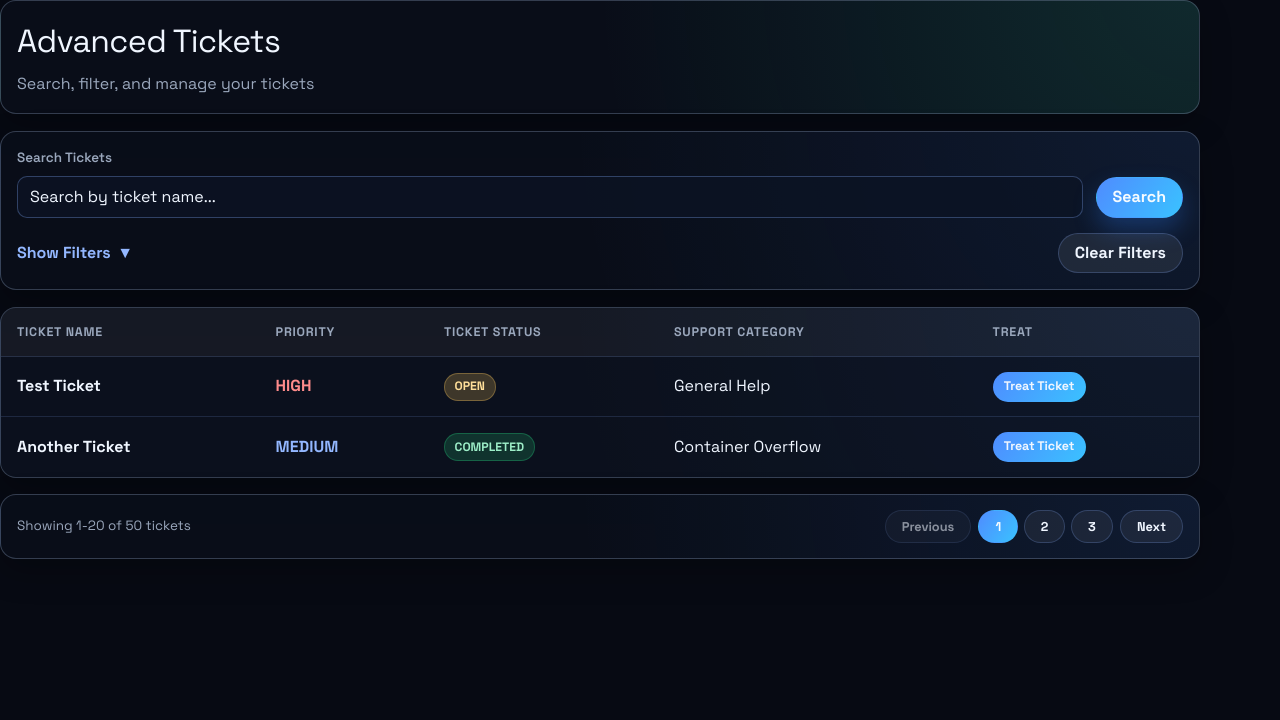
Test: AdvancedTicketList Component › filters toggle works correctly
What coordinates should you click on to do the following:
click the text "Show Filters"
I would click on:
 (64, 253)
Its box is x1=17 y1=241 x2=111 y2=265.
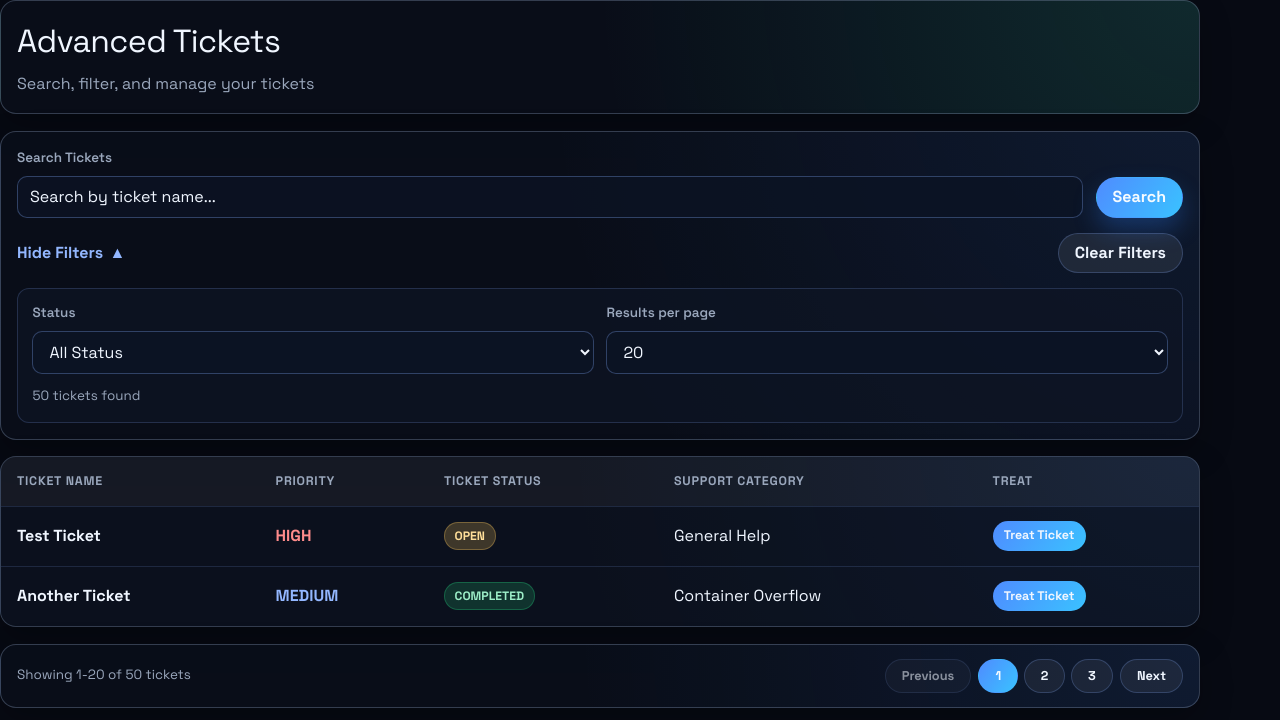
Check: the text "Hide Filters" is shown, box x1=17 y1=241 x2=103 y2=265
Check: the text "Status" is shown, box x1=32 y1=304 x2=75 y2=321
